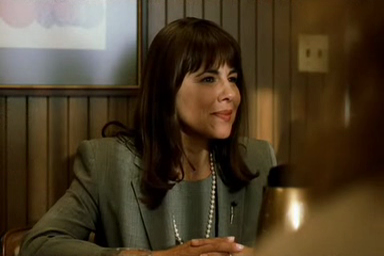face: (184, 62, 241, 139)
mcu: (1, 1, 384, 256)
person: (20, 16, 277, 255)
